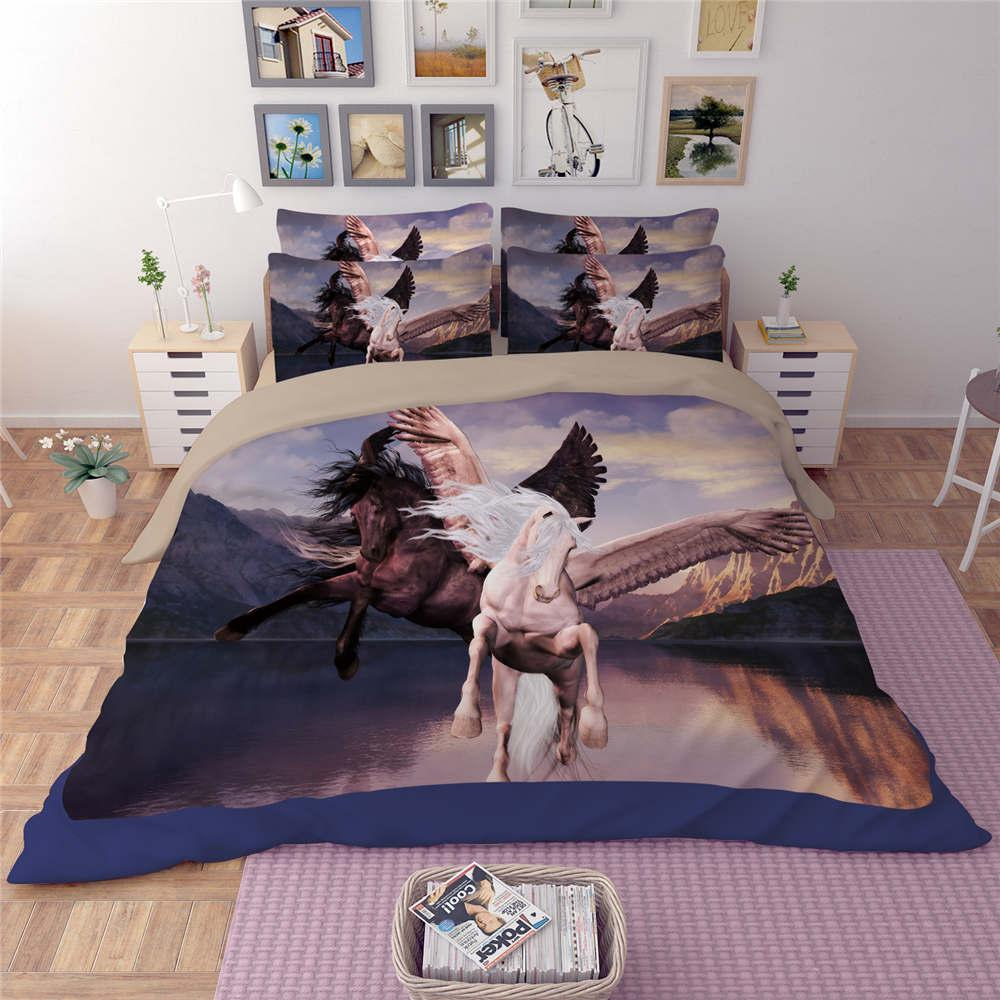bed: (178, 145, 913, 898)
